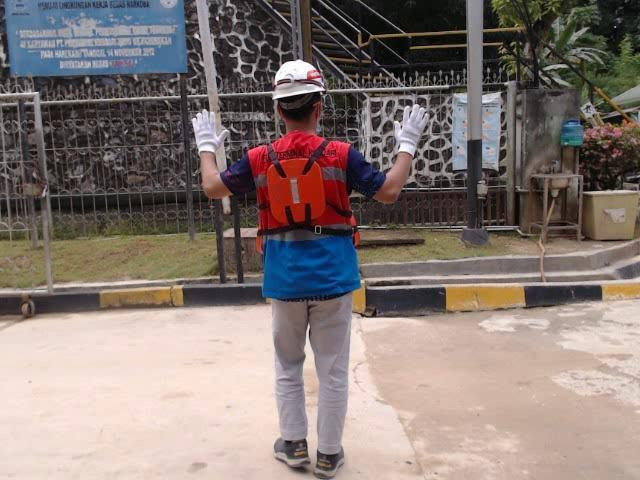vest: (263, 147, 329, 228)
